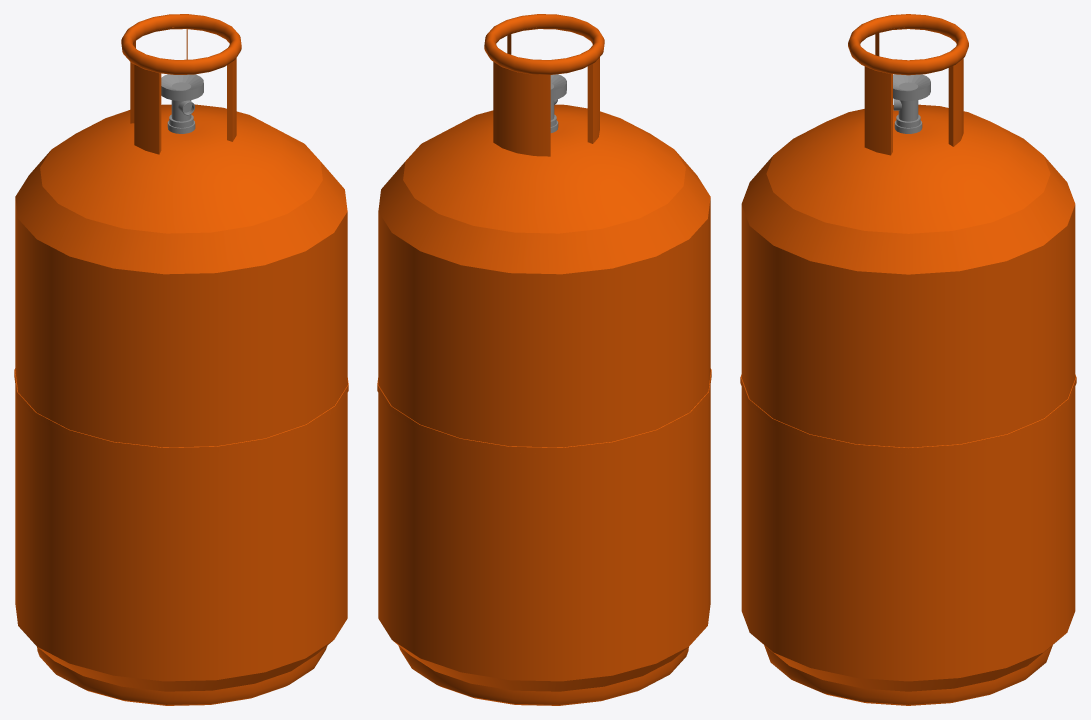
The model's file is gas cylinder.glb.
3 renders of one model, left to right at view 1: azimuth 30°, elevation 25°; view 2: azimuth 150°, elevation 25°; view 3: azimuth 270°, elevation 25°, orthographic.
Parts seen in each view (by area): view 1: pasted__pasted__pasted__pasted__pasted__polySurface5, pasted__pasted__pasted__pasted__pasted__polySurface2, pasted__pasted__pasted__pasted__pasted__polySurface4, pasted__pasted__pasted__pasted__pasted__polySurface3; view 2: pasted__pasted__pasted__pasted__pasted__polySurface5, pasted__pasted__pasted__pasted__pasted__polySurface4, pasted__pasted__pasted__pasted__pasted__polySurface2, pasted__pasted__pasted__pasted__pasted__polySurface3; view 3: pasted__pasted__pasted__pasted__pasted__polySurface5, pasted__pasted__pasted__pasted__pasted__polySurface2, pasted__pasted__pasted__pasted__pasted__polySurface4, pasted__pasted__pasted__pasted__pasted__polySurface3.
Part boxes in pixels (box(x1,y1,x2,y2)): pasted__pasted__pasted__pasted__pasted__polySurface5: box(14, 104, 348, 705); pasted__pasted__pasted__pasted__pasted__polySurface2: box(121, 14, 241, 74); pasted__pasted__pasted__pasted__pasted__polySurface4: box(130, 27, 236, 154); pasted__pasted__pasted__pasted__pasted__polySurface3: box(161, 74, 203, 133); pasted__pasted__pasted__pasted__pasted__polySurface5: box(377, 104, 711, 705); pasted__pasted__pasted__pasted__pasted__polySurface4: box(493, 27, 599, 156); pasted__pasted__pasted__pasted__pasted__polySurface2: box(484, 14, 604, 74); pasted__pasted__pasted__pasted__pasted__polySurface3: box(550, 74, 566, 132); pasted__pasted__pasted__pasted__pasted__polySurface5: box(740, 104, 1076, 705); pasted__pasted__pasted__pasted__pasted__polySurface2: box(848, 14, 968, 75); pasted__pasted__pasted__pasted__pasted__polySurface4: box(864, 27, 963, 155); pasted__pasted__pasted__pasted__pasted__polySurface3: box(893, 74, 930, 133).
Size of the model in its own units: 1.29 by 2.58 by 1.29.
